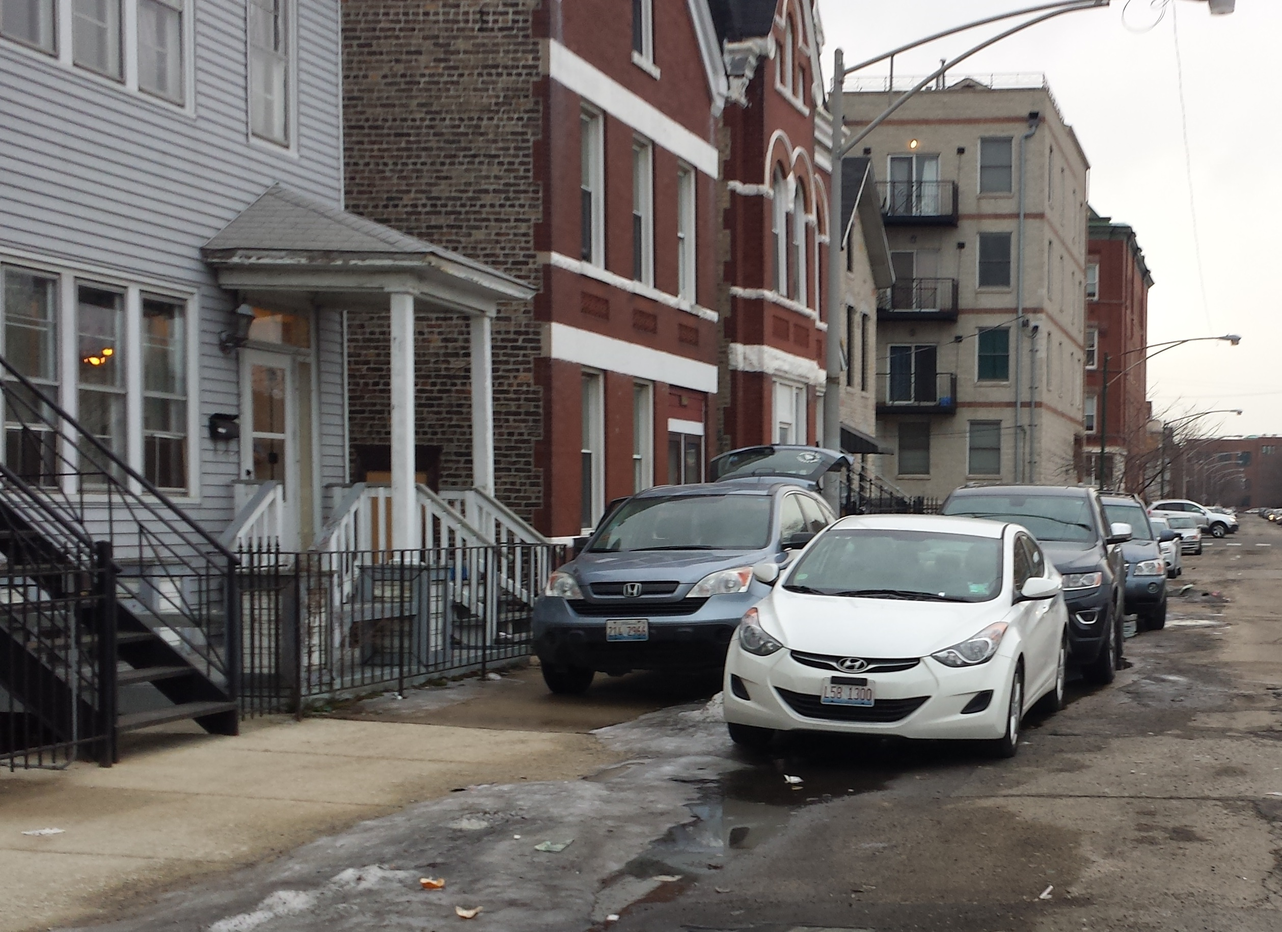Car: (730, 500, 1079, 760), (532, 471, 830, 691), (954, 481, 1136, 678)
